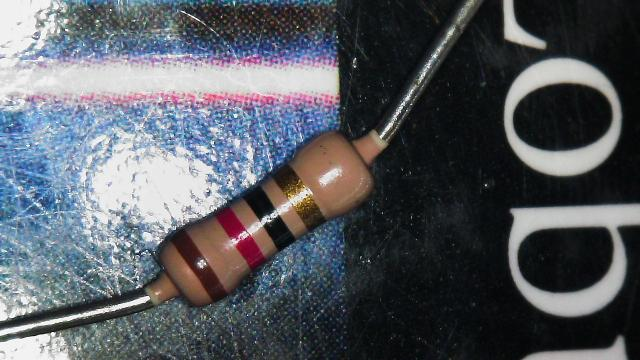black: (243, 185, 294, 250)
brown: (170, 229, 225, 301)
gold: (272, 165, 326, 230)
red: (216, 206, 264, 269)
resistor: (118, 103, 408, 341)
